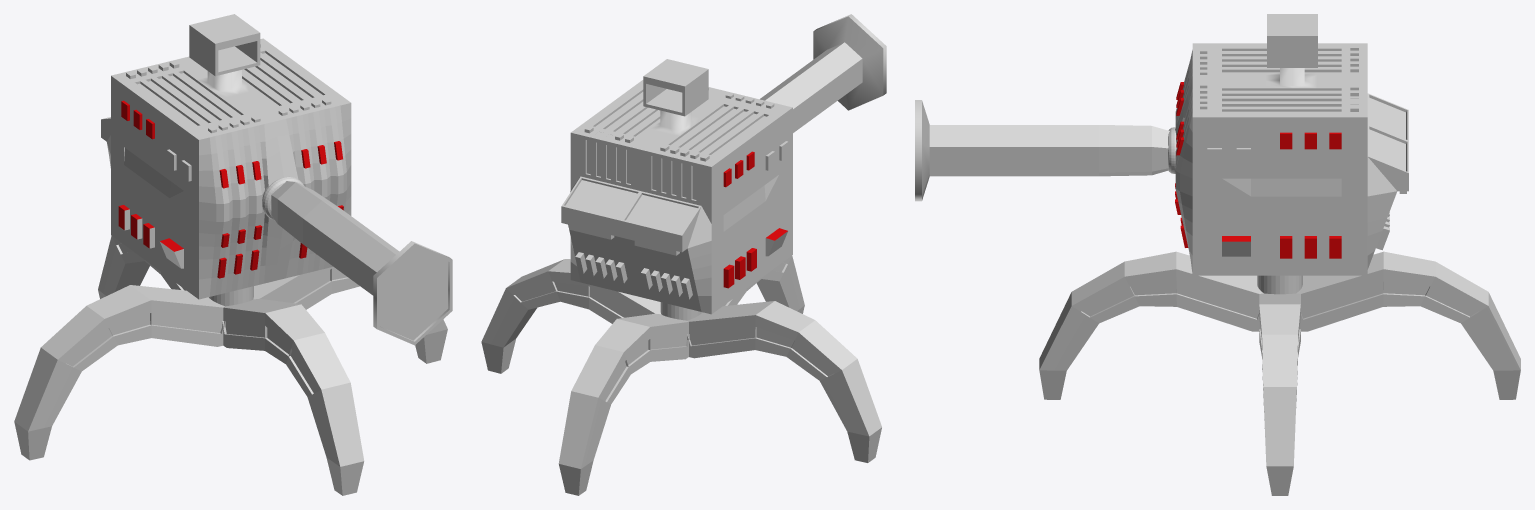
The model's file is sniper.fbx.
The picture shows the model from 3 angles, left to right: view 1: azimuth 30°, elevation 25°; view 2: azimuth 150°, elevation 25°; view 3: azimuth 270°, elevation 25°; orthographic projection. The views are drawn at different scales.
Parts seen in each view (by area): view 1: tourelle, patte; view 2: tourelle, patte; view 3: tourelle, patte.
Part boxes in pixels (x1,y1,x2,y2): tourelle: (101, 14, 452, 345); patte: (14, 236, 447, 495); tourelle: (561, 14, 886, 314); patte: (481, 256, 881, 495); tourelle: (915, 14, 1408, 275); patte: (1039, 251, 1520, 495).
Size of the model in its own units: 551 by 469 by 693.
